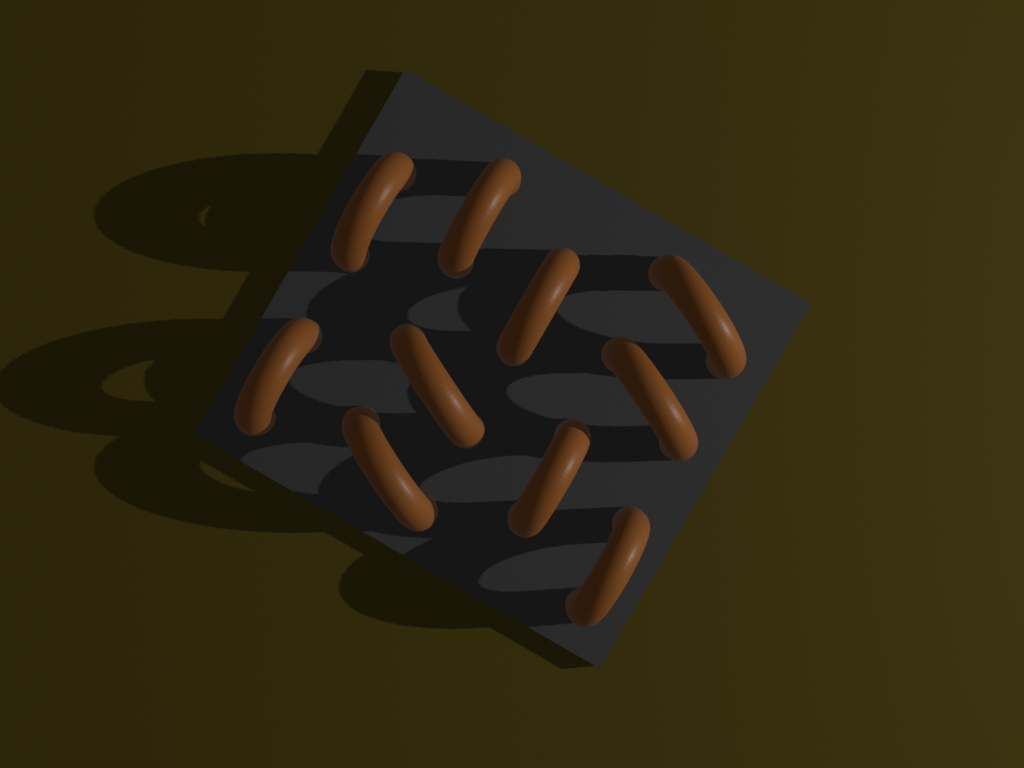return-bend: (362, 295, 514, 471), (577, 308, 722, 486), (312, 384, 456, 563), (629, 225, 773, 403), (408, 129, 549, 308), (483, 389, 624, 568), (545, 476, 686, 655), (301, 119, 441, 299), (469, 219, 609, 398), (210, 283, 350, 462)
